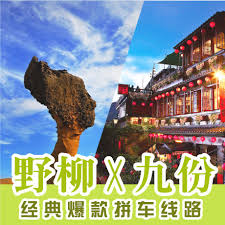yehliu: (15, 53, 102, 134)
